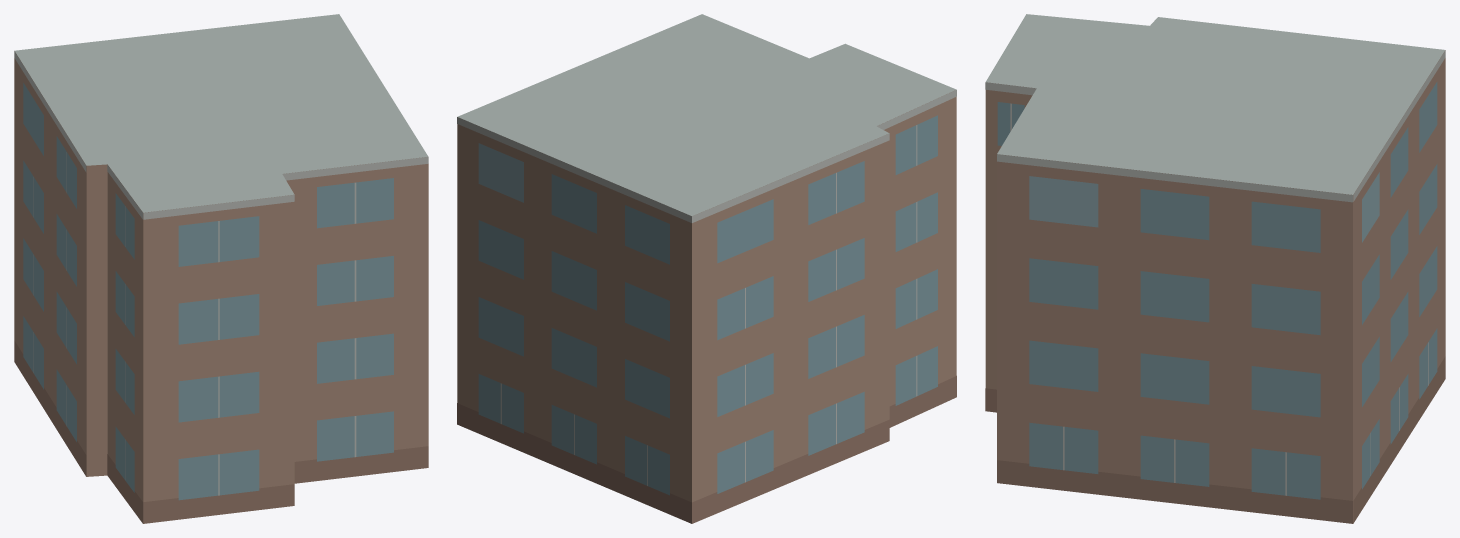
File: survey-upis-32960456.glb
3 views of the same model, side by side, from view 1: azimuth 30°, elevation 25°; view 2: azimuth 150°, elevation 25°; view 3: azimuth 270°, elevation 25° (orthographic). The views are drawn at different scales.
Visible parts, largest first — view 1: survey-upis-32960456.tmp; view 2: survey-upis-32960456.tmp; view 3: survey-upis-32960456.tmp.
Boxes of the visible parts, x1,y1,x2,y2 form: survey-upis-32960456.tmp: (14,14,428,523); survey-upis-32960456.tmp: (457,14,956,523); survey-upis-32960456.tmp: (985,14,1445,523).
Bounding box in the file's own units: 12.63 × 10.7 × 13.57.
